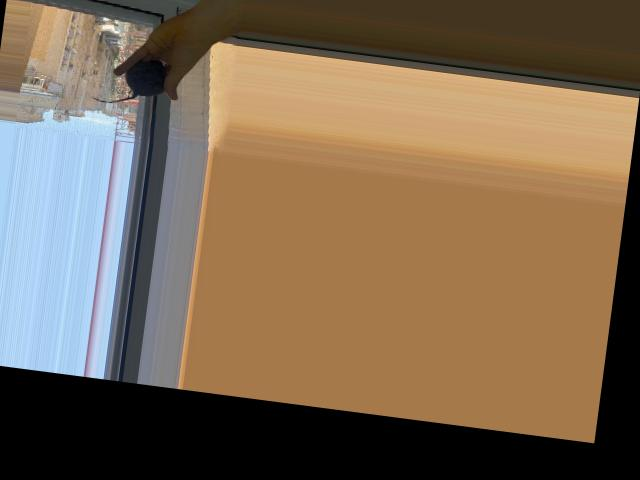beet: (90, 52, 167, 110)
